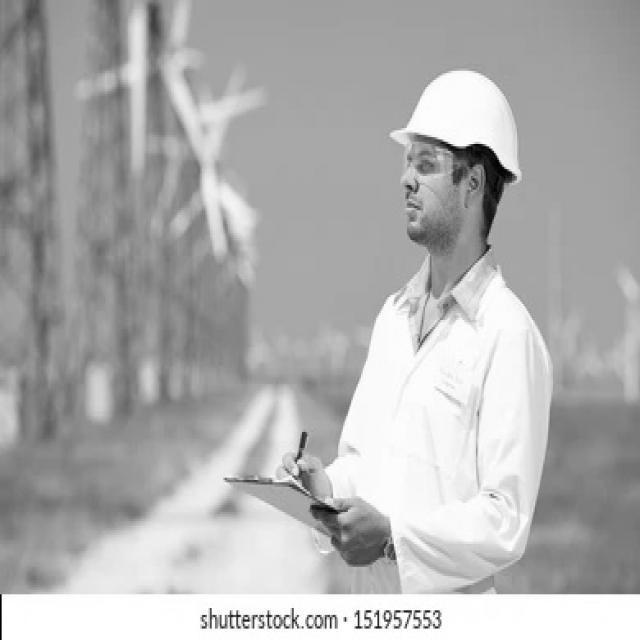safety_helmet: (395, 71, 519, 176)
